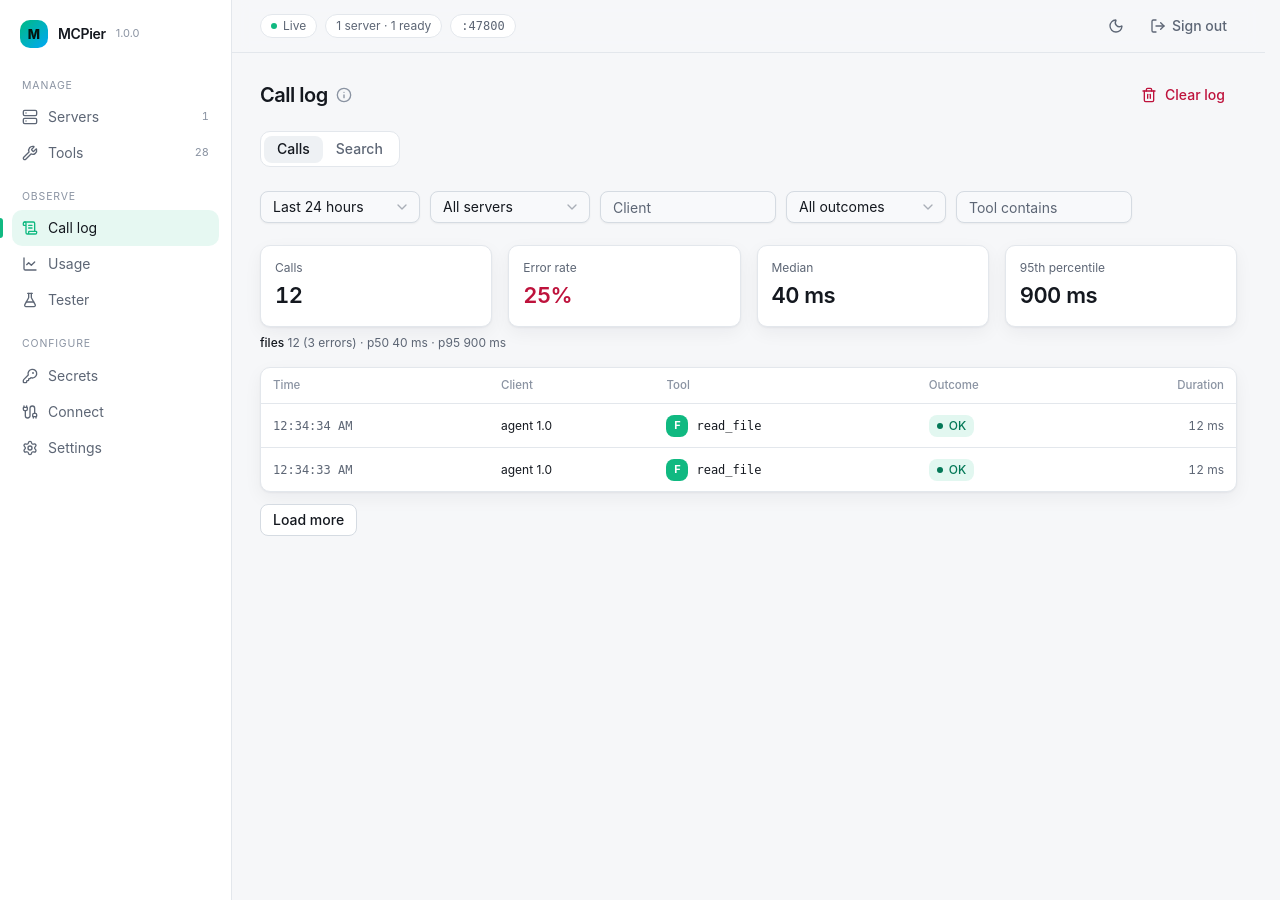
Call log: list › loads more with the cursor
The width and height of the screenshot is (1280, 900).
Check: the number of rows is 3, box x1=261 y1=368 x2=1236 y2=404; x1=261 y1=404 x2=1236 y2=448; x1=261 y1=448 x2=1236 y2=491
Click the button "Load more" at {"x": 309, "y": 520}, box x1=260 y1=504 x2=357 y2=536
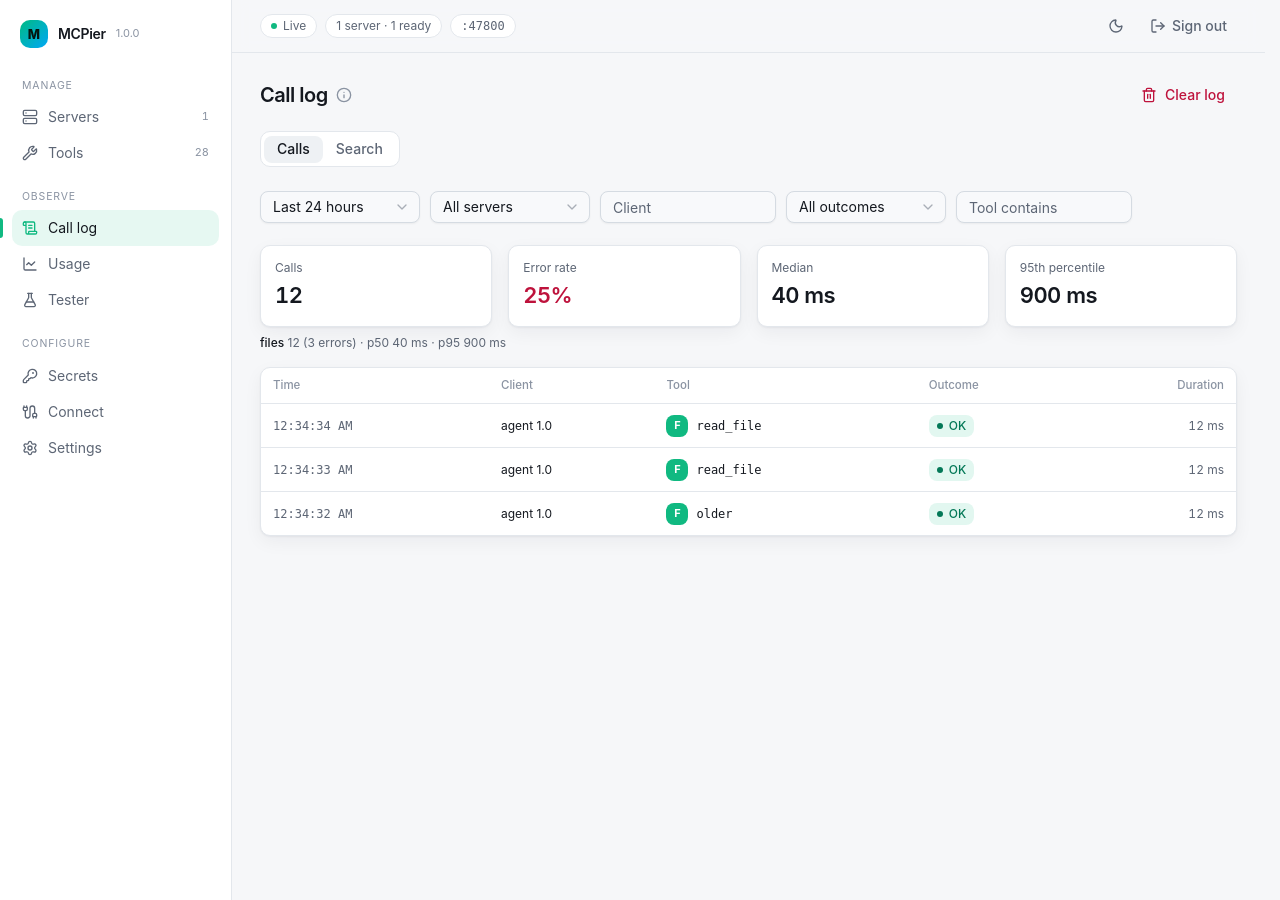
Check: the button "Load more" is gone
